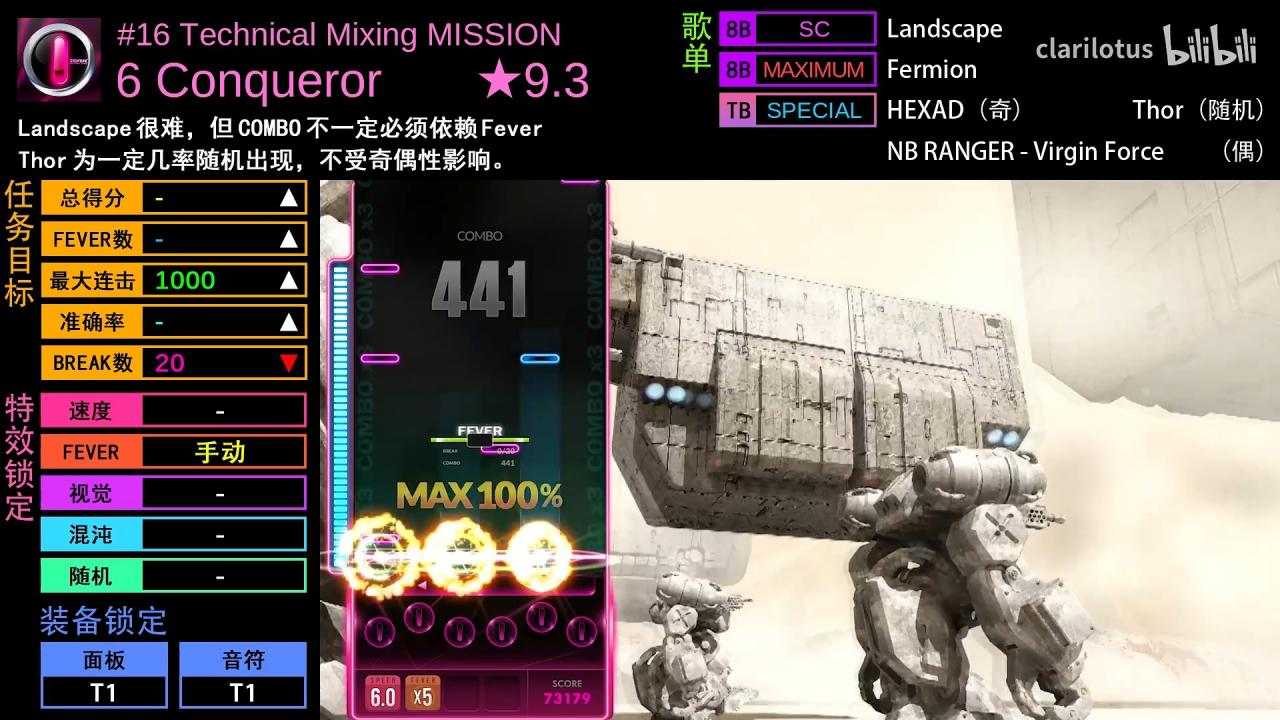note: (361, 263, 399, 274), (520, 354, 560, 364), (360, 533, 398, 543), (480, 444, 520, 453), (361, 354, 399, 363)
